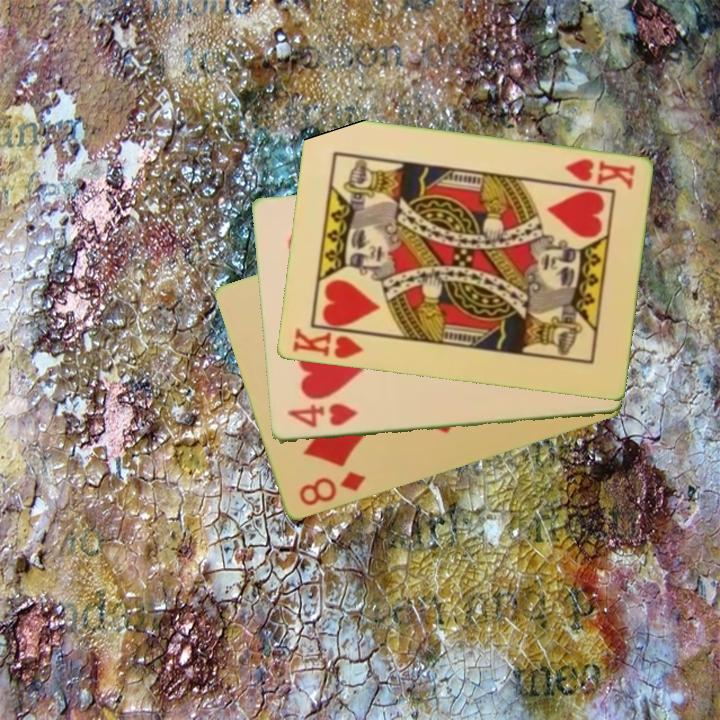4h: (284, 401, 360, 431)
8d: (295, 468, 369, 510)
Kh: (289, 324, 372, 362), (561, 155, 638, 192)
